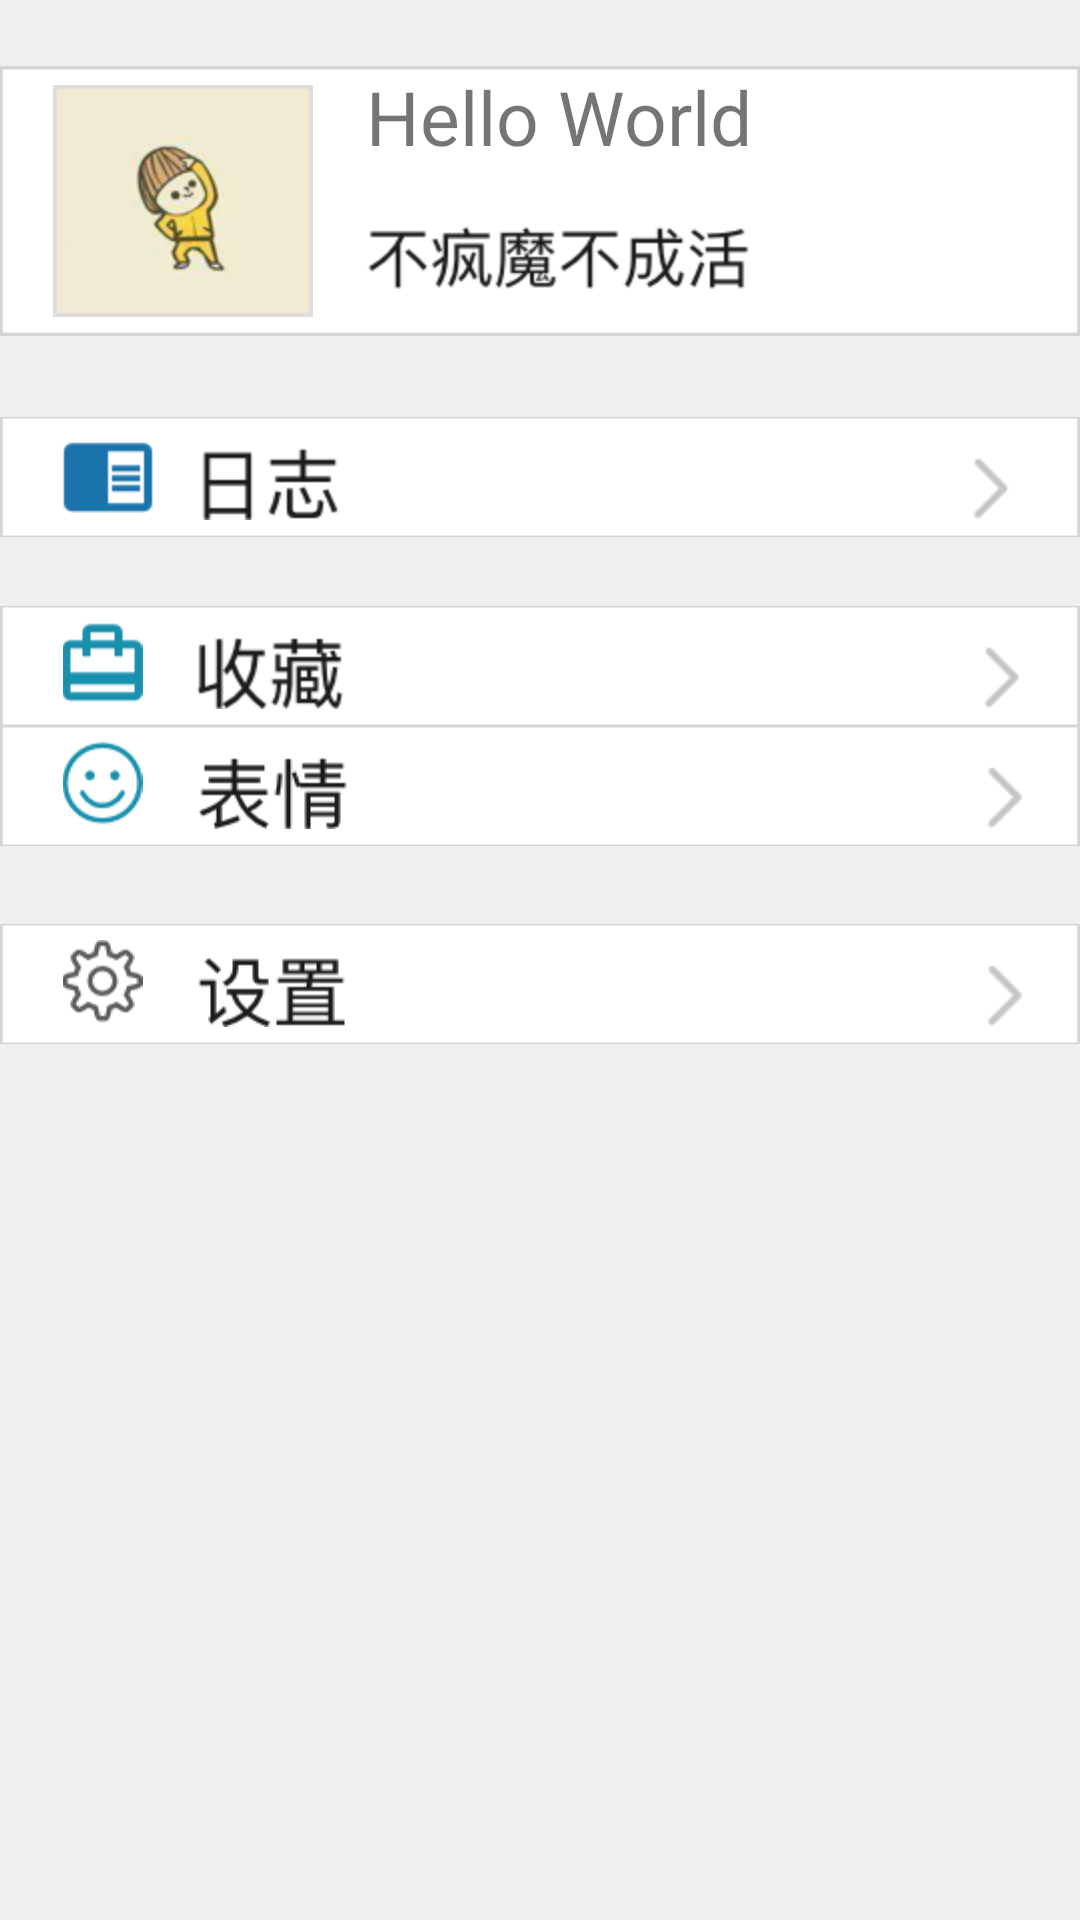

Icon bounding boxes for this 1080 x 1920 phone screenshot, format {"x1": x1, "y1": y1, "x2": x2, "y2": y2}:
biaoqing: {"x1": 63, "y1": 742, "x2": 143, "y2": 825}
enter: {"x1": 974, "y1": 459, "x2": 1007, "y2": 518}, {"x1": 985, "y1": 648, "x2": 1018, "y2": 707}, {"x1": 989, "y1": 768, "x2": 1021, "y2": 827}, {"x1": 988, "y1": 966, "x2": 1021, "y2": 1025}
rizhi: {"x1": 63, "y1": 442, "x2": 153, "y2": 513}
seting: {"x1": 63, "y1": 940, "x2": 143, "y2": 1022}
touxiang: {"x1": 53, "y1": 85, "x2": 313, "y2": 317}
